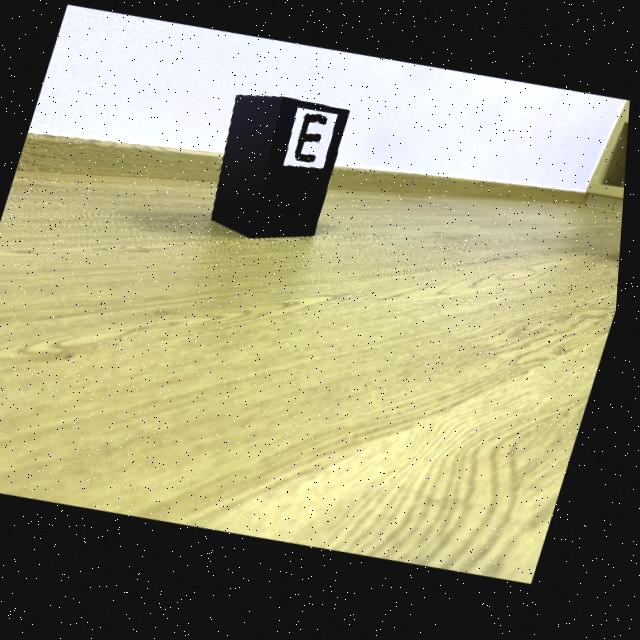E: (296, 119, 329, 168)
